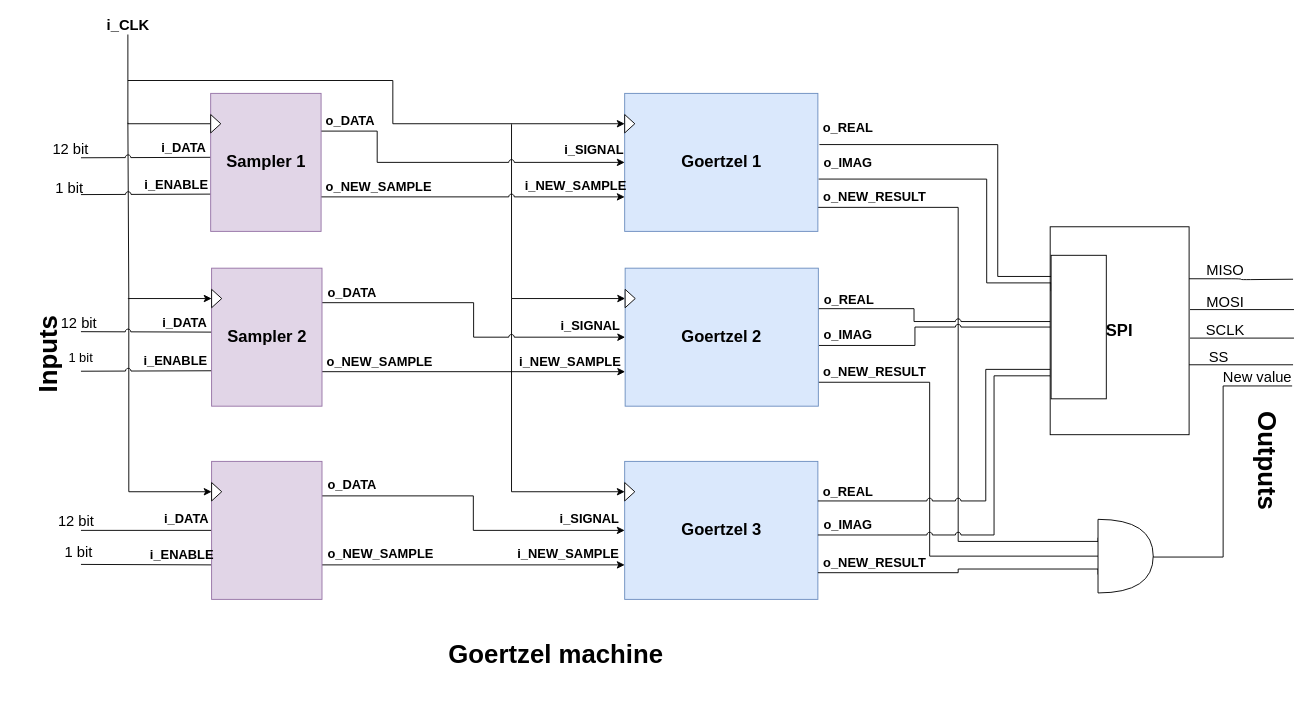
The diagram is 1314 pixels wide and 703 high, and some of its shapes have lost their labels. The shapes that lost their labels are listed below. From the top down, each one's box as (x1, y1, x2, y2) in pixels, then its label:
(1050, 254, 1106, 399): SPI Registers
(211, 460, 322, 599): Sampler 3
(1097, 518, 1153, 593): AND
